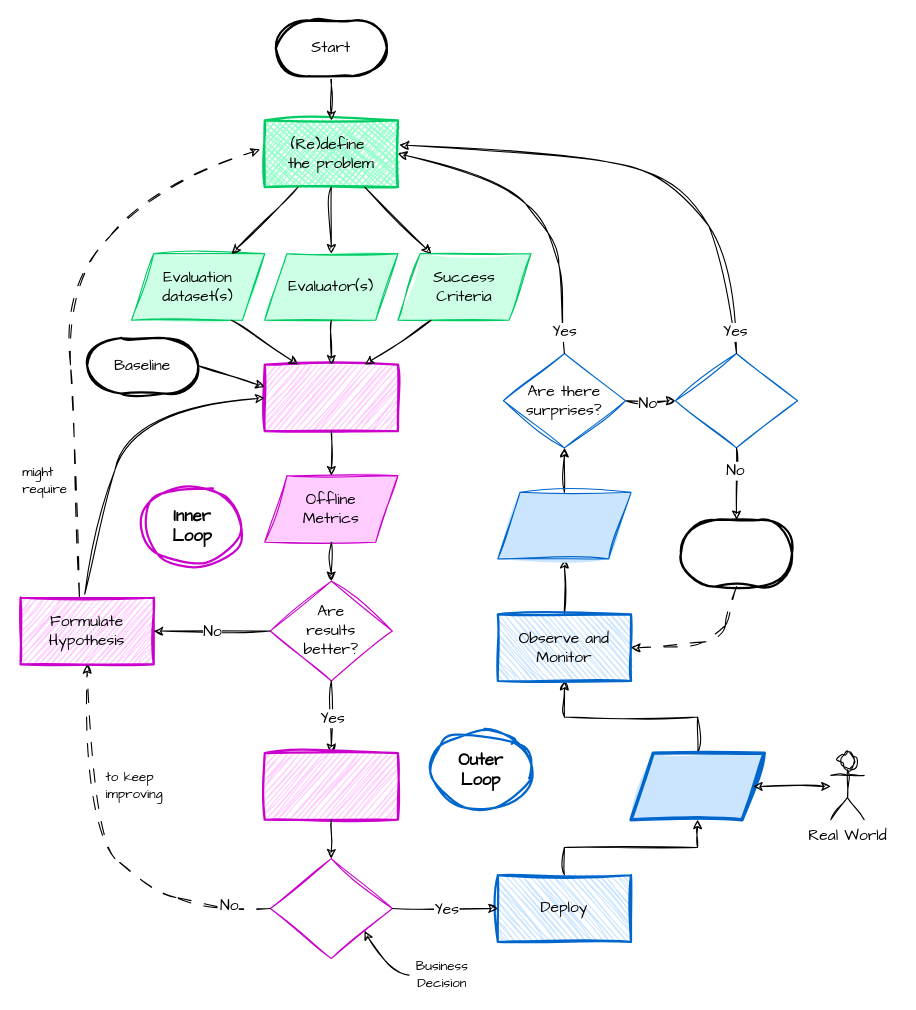
Image size: 916x1010. Some labels were removed from this diagram. The centre of each missing label's shape, as x and y in pixels:
"Deploy improvements?" goes at (330,907).
"Integrate improvements" goes at (330,785).
"Maintenance Mode" goes at (736,552).
"More ambition?" goes at (736,400).
"Online Metrics" goes at (564,525).
"Product" goes at (697,786).
"Run experiment" goes at (330,397).
